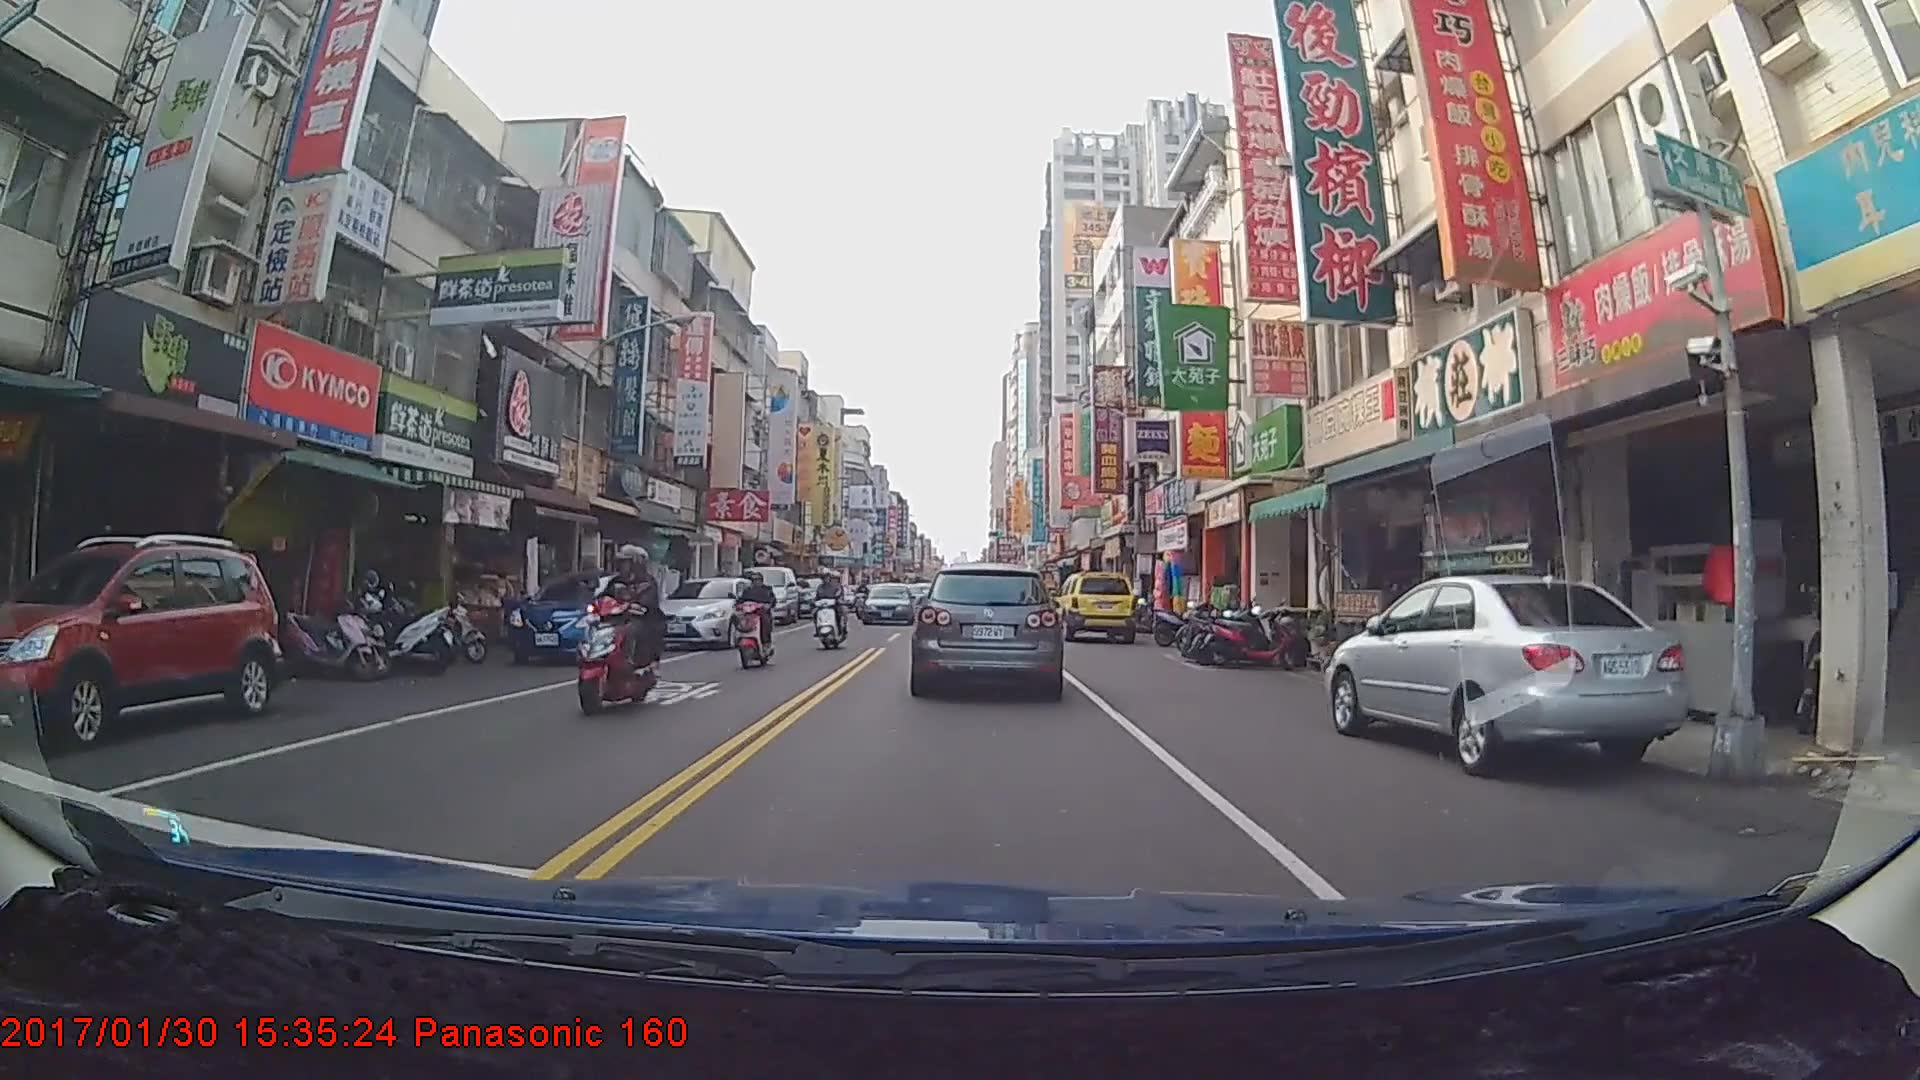rider: (574, 548, 662, 718), (732, 569, 779, 672), (805, 571, 849, 655)
vehicle: (1323, 570, 1687, 777), (0, 537, 279, 744), (912, 561, 1062, 698), (503, 569, 662, 665), (648, 574, 773, 647), (1052, 568, 1139, 641), (739, 566, 800, 625), (856, 581, 918, 625)
